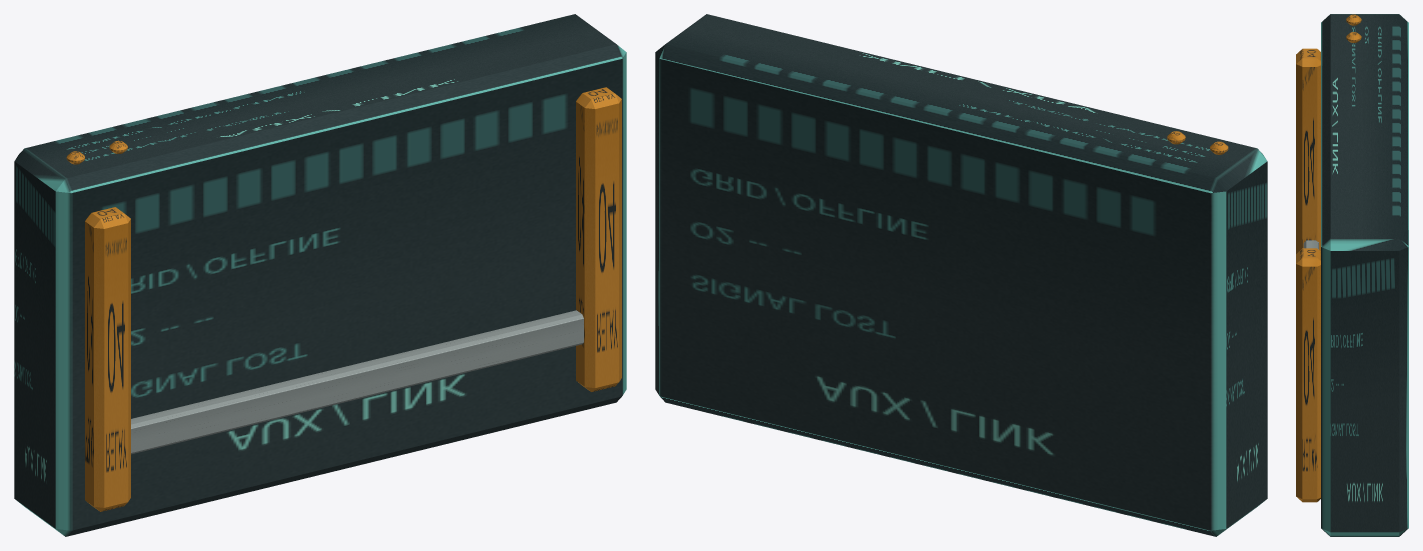
File: wall_half_2m_LOD0.obj
3 views of the same model, side by side, from view 1: azimuth 30°, elevation 25°; view 2: azimuth 150°, elevation 25°; view 3: azimuth 270°, elevation 25° (orthographic). The views are drawn at different scales.
Parts seen in each view (by area): view 1: L02_wall_half_2m_LOD0; view 2: L02_wall_half_2m_LOD0; view 3: L02_wall_half_2m_LOD0.
Boxes of the visible parts, <box> form: L02_wall_half_2m_LOD0: <box>14,14,626,536</box>; L02_wall_half_2m_LOD0: <box>655,14,1267,536</box>; L02_wall_half_2m_LOD0: <box>1296,14,1408,536</box>.
Bounding box in the file's own units: 2 × 1.23 × 0.41.
1 material, 1 textured.
